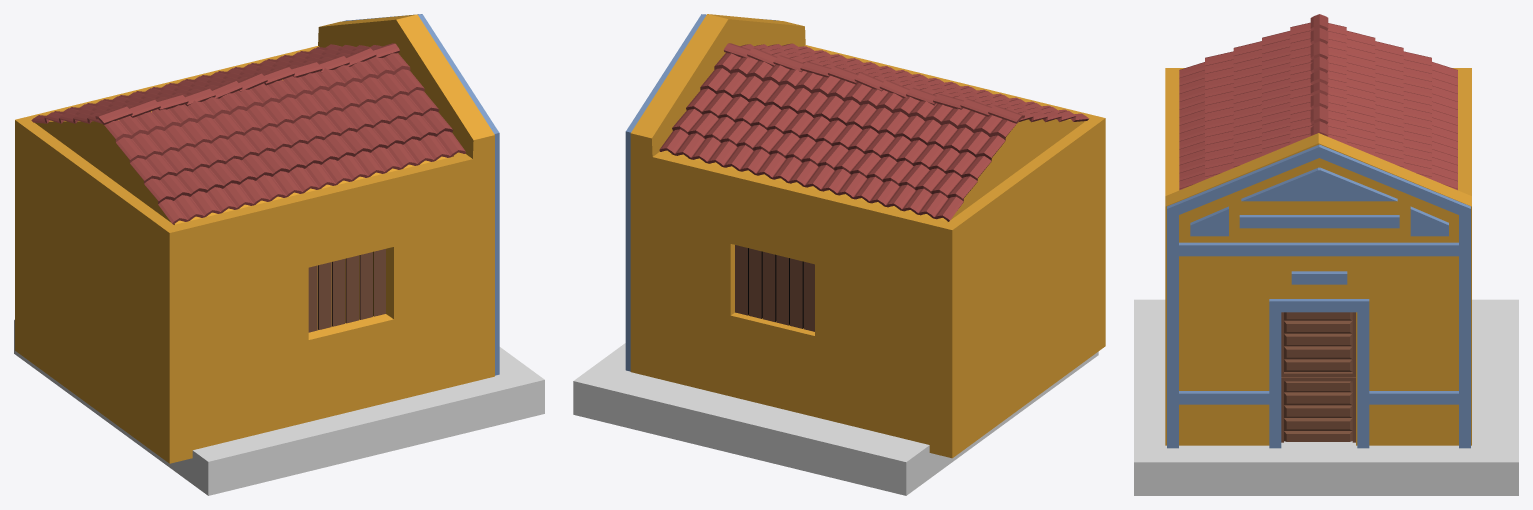
The model's file is casa7.fbx.
The picture shows the model from 3 angles, left to right: view 1: azimuth 30°, elevation 25°; view 2: azimuth 150°, elevation 25°; view 3: azimuth 270°, elevation 25°; orthographic projection.
Visible parts, largest first — view 1: Cube.024, Cube.012; view 2: Cube.024, Cube.012; view 3: Cube.024, Cube.012.
Part boxes in pixels (x1=…): Cube.024: x1=15, y1=14, x2=499, y2=463; Cube.012: x1=14, y1=319, x2=544, y2=495; Cube.024: x1=625, y1=14, x2=1105, y2=458; Cube.012: x1=573, y1=343, x2=1098, y2=495; Cube.024: x1=1165, y1=14, x2=1471, y2=448; Cube.012: x1=1134, y1=299, x2=1518, y2=495.
Size of the model in its own units: 268 by 242 by 251.
